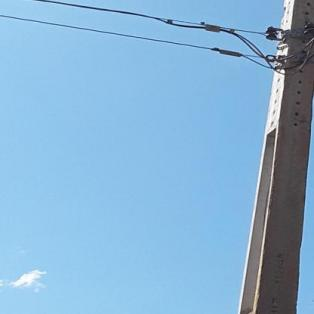Poste: (226, 0, 314, 314)
